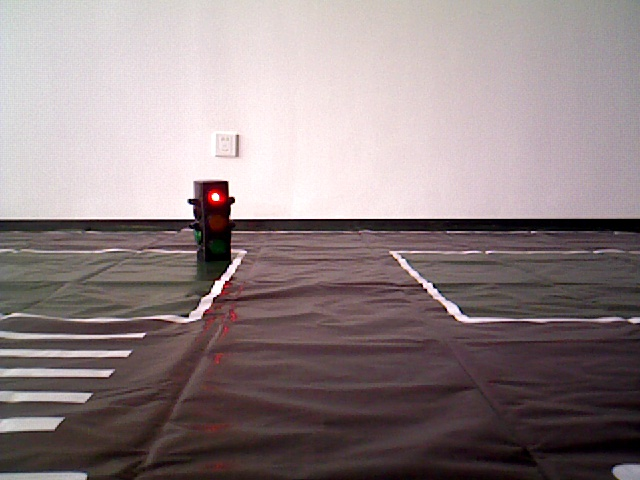red: (194, 181, 229, 270)
